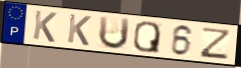6: (171, 24, 193, 57)
K: (66, 12, 94, 47), (32, 9, 59, 44)
Q: (132, 20, 162, 55)
U: (97, 15, 132, 51)
Z: (198, 27, 233, 61)
